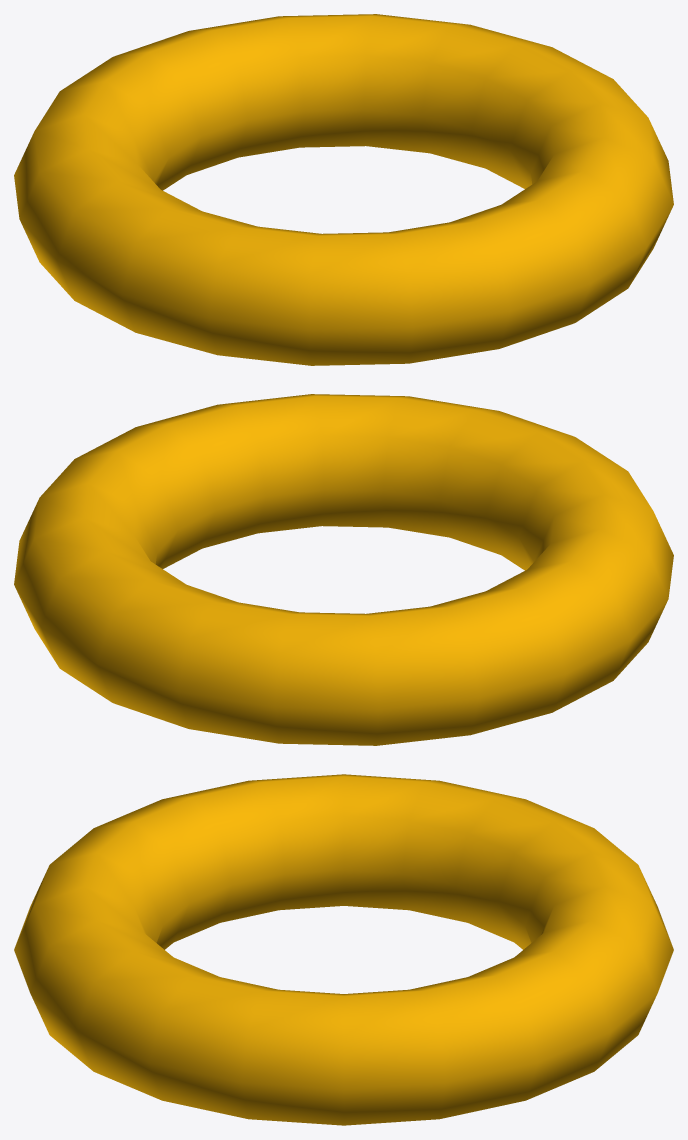
Rendered from 106-crown-of-carys.glb.
3 renders of one model, top to bottom at view 1: azimuth 30°, elevation 25°; view 2: azimuth 150°, elevation 25°; view 3: azimuth 270°, elevation 25°, orthographic.
Size of the model in its own units: 0.33 by 0.07 by 0.33.
